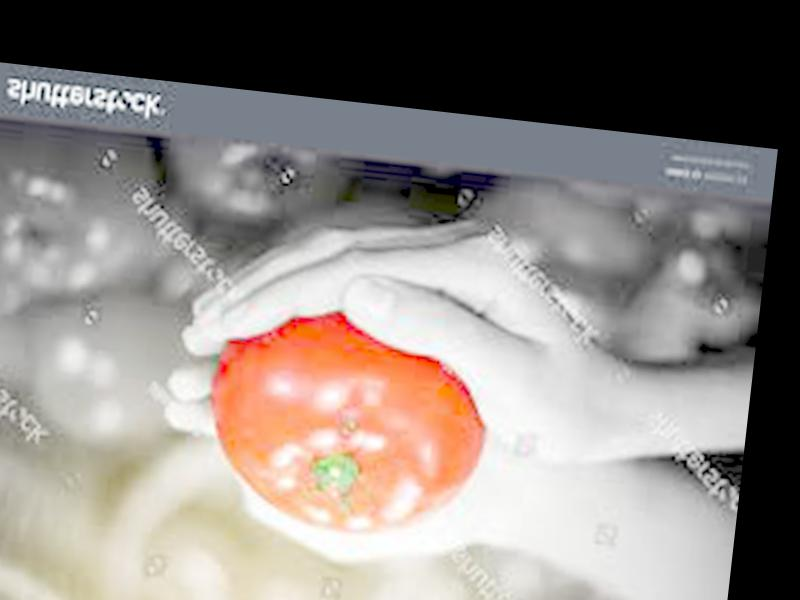Tomato: (199, 300, 496, 545)
